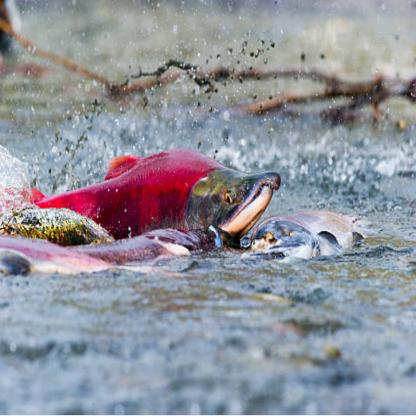sockeye: (34, 144, 258, 241)
